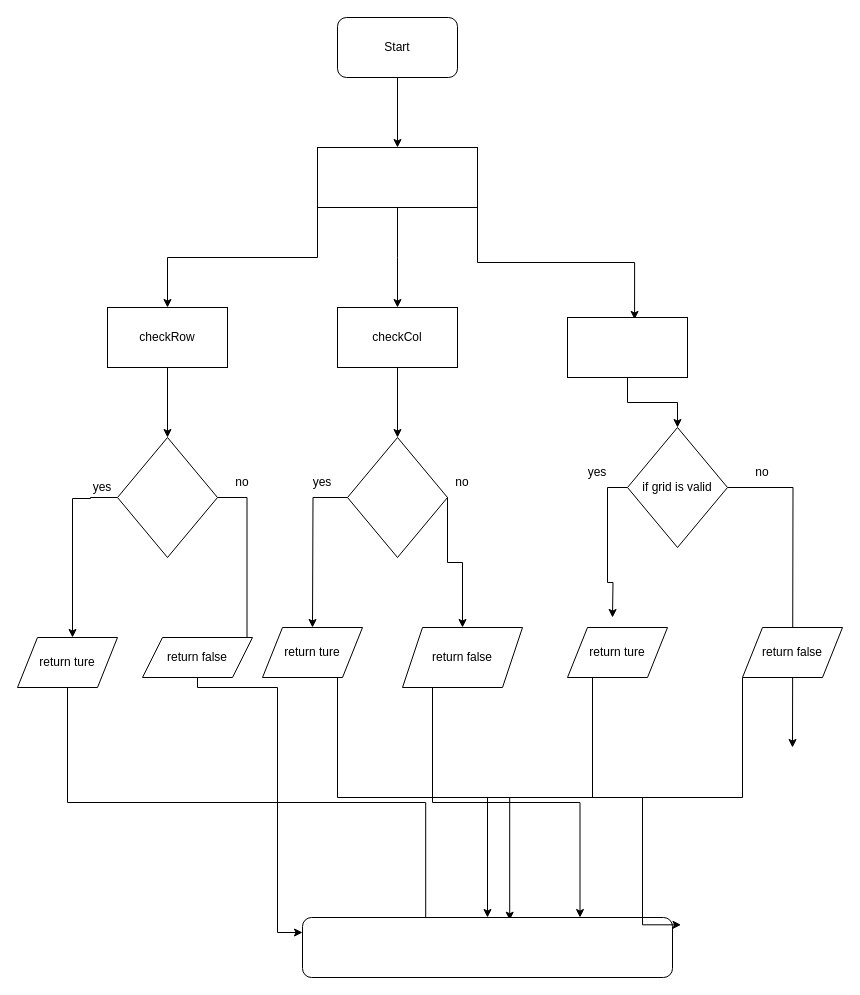
Some shapes in this 860 by 995 pixel diagram are drawn without their labels. The shapes that lost their labels are listed below. From the top down, each one's centre as x and y in pixels, then its label:
point (397, 177): isSudokuValid
point (627, 347): checkSubgrid
point (167, 497): if row is valied
point (397, 497): if col is valid
point (487, 947): checkRow&& checkCol && checkSubgrid
